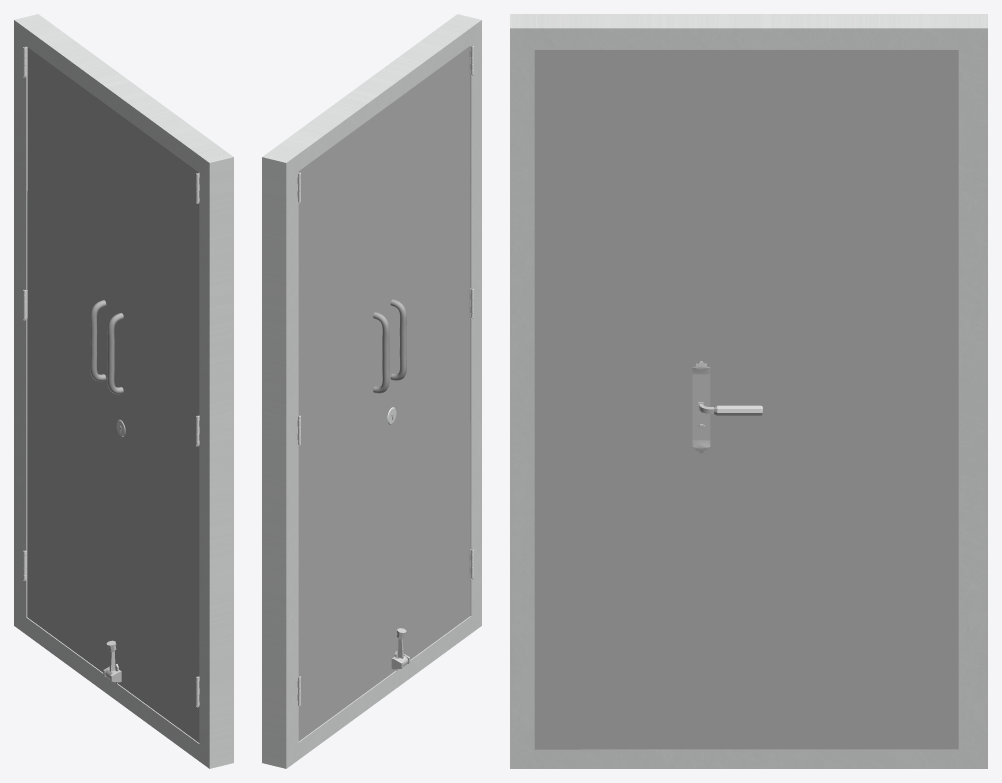
File: lead doors.fbx
3 renders of one model, left to right at view 1: azimuth 30°, elevation 25°; view 2: azimuth 150°, elevation 25°; view 3: azimuth 270°, elevation 25°, orthographic. The views are drawn at different scales.
Parts seen in each view (by area): view 1: inner_door1.003, inner_door2.003, Plane.014, BézierCurve, BézierCurve.001; view 2: inner_door1.003, inner_door2.003, Plane.014, BézierCurve.001, BézierCurve; view 3: inner_door1.003, inner_door2.003, Plane.014, pCube11.011.
Boxes of the visible parts, x1,y1,x2,y2 form: inner_door1.003: (113,110,199,742); inner_door2.003: (27,47,113,672); Plane.014: (14,14,233,768); BézierCurve: (107,313,123,394); BézierCurve.001: (90,300,106,381); inner_door1.003: (383,46,470,678); inner_door2.003: (298,110,383,741); Plane.014: (262,14,481,768); BézierCurve.001: (373,312,389,393); BézierCurve: (390,299,406,380); inner_door1.003: (534,49,748,749); inner_door2.003: (748,49,958,749); Plane.014: (510,14,987,768); pCube11.011: (692,361,710,453).
Size of the model in its own units: 22.03 by 251 by 147.
